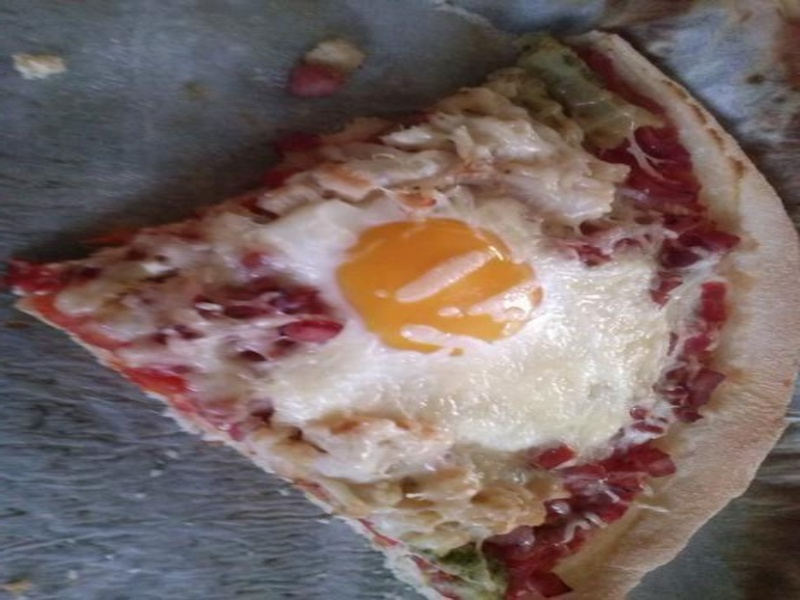oeuf: (328, 204, 572, 370)
